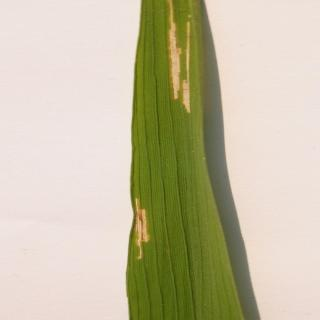Hawar-Daun: (156, 2, 198, 125), (124, 199, 164, 252)
